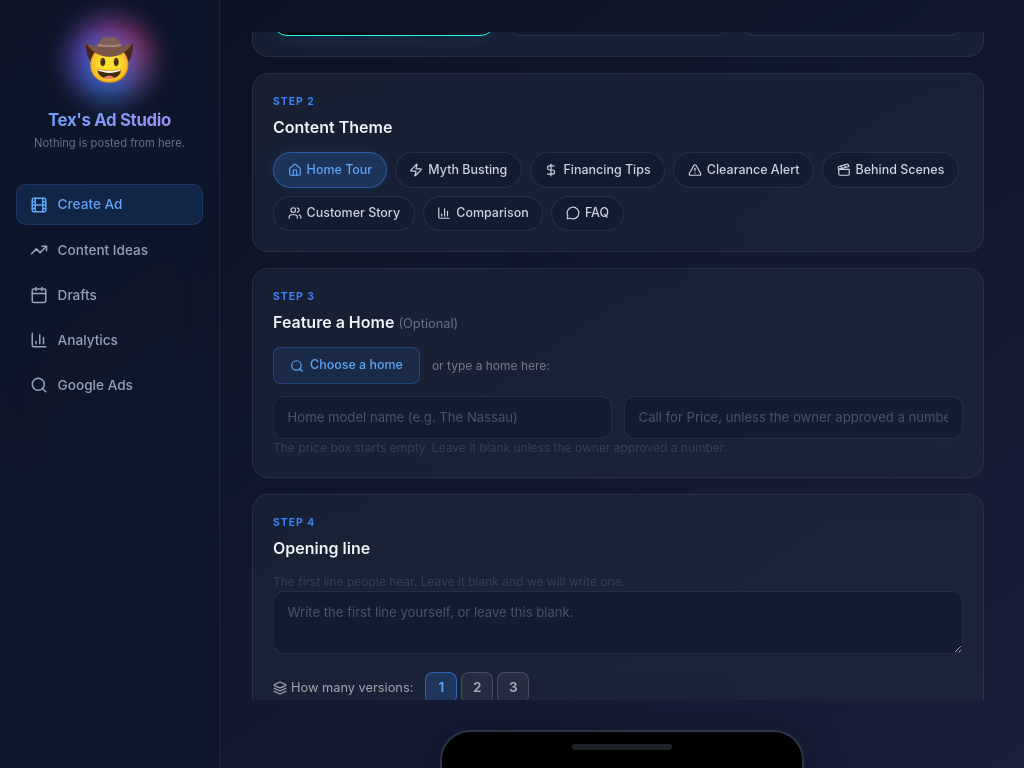
Test: Ad Studio inventory picker revalidates an old cached catalog on first navigation
The width and height of the screenshot is (1024, 768).
(page scrolled)
What coordinates should you click on to do the following:
click the button "Choose a home"
I would click on:
 (346, 366)
Its box is x1=273 y1=348 x2=420 y2=384.
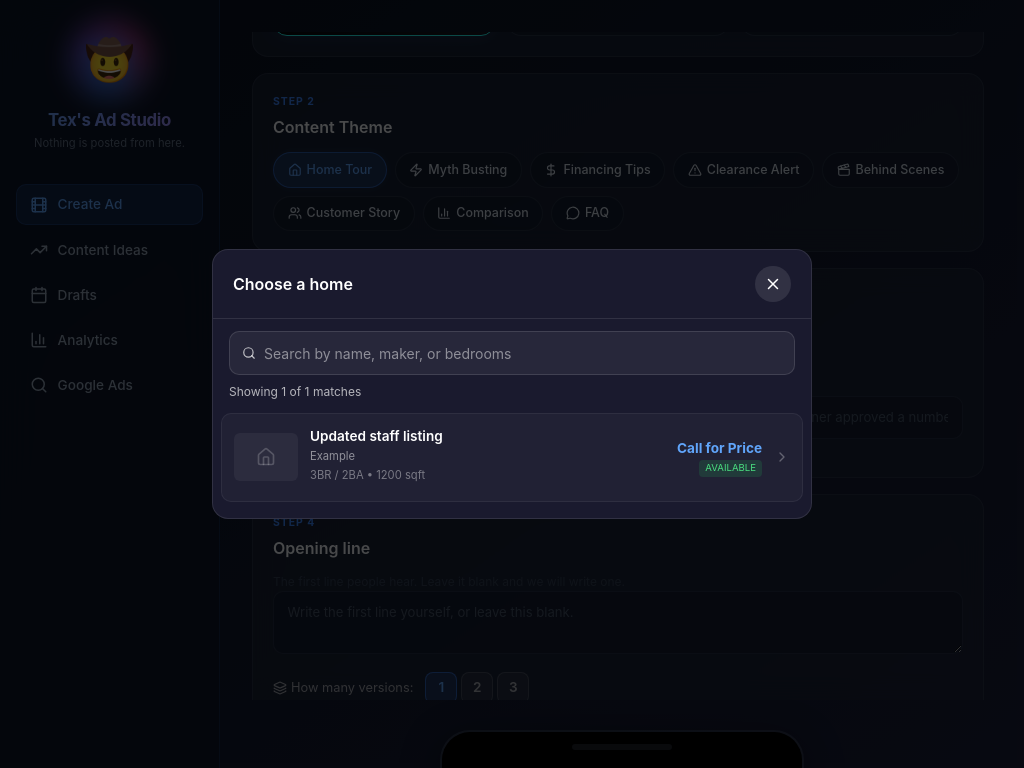
Check: the text "Updated staff listing" is shown, box x1=310 y1=428 x2=443 y2=444
